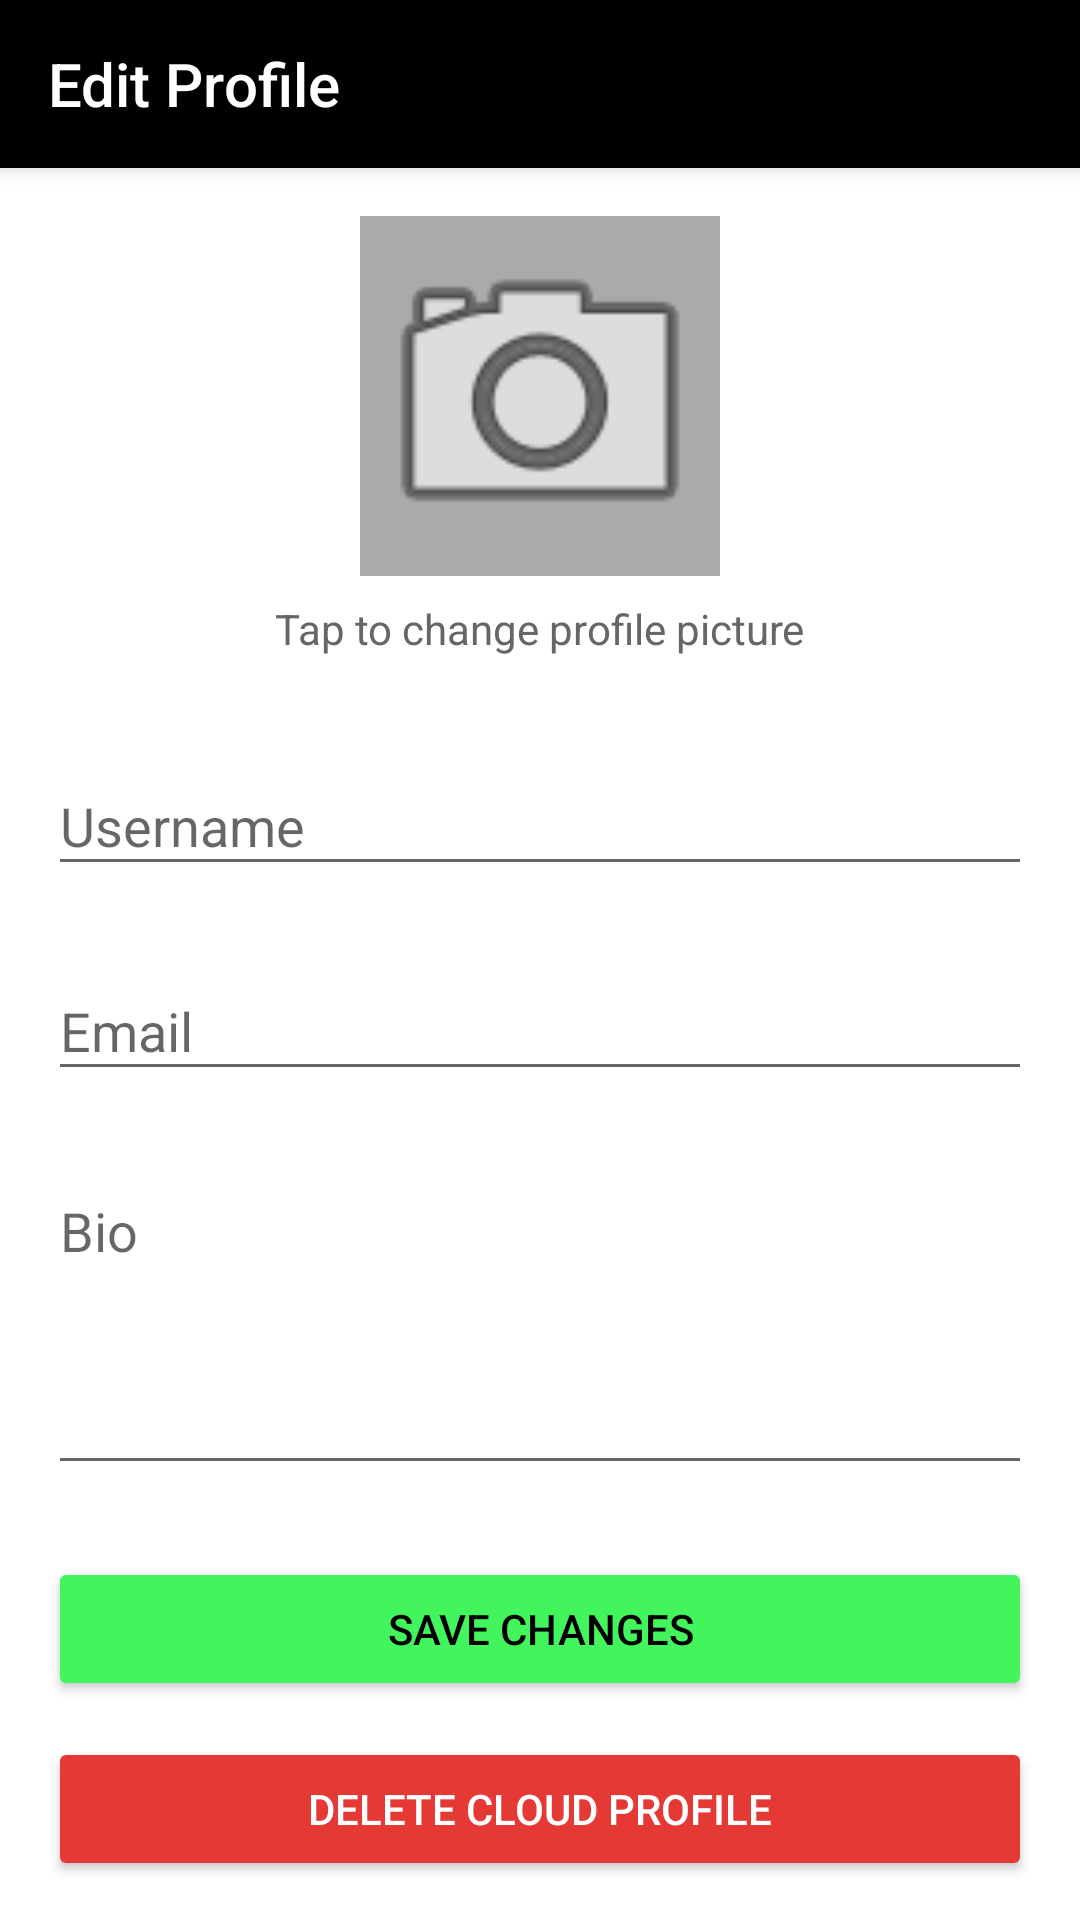

Screen size 1080w x 1920h. Icon name, then its center in pixels as [x,y]:
camera: [540,396]
